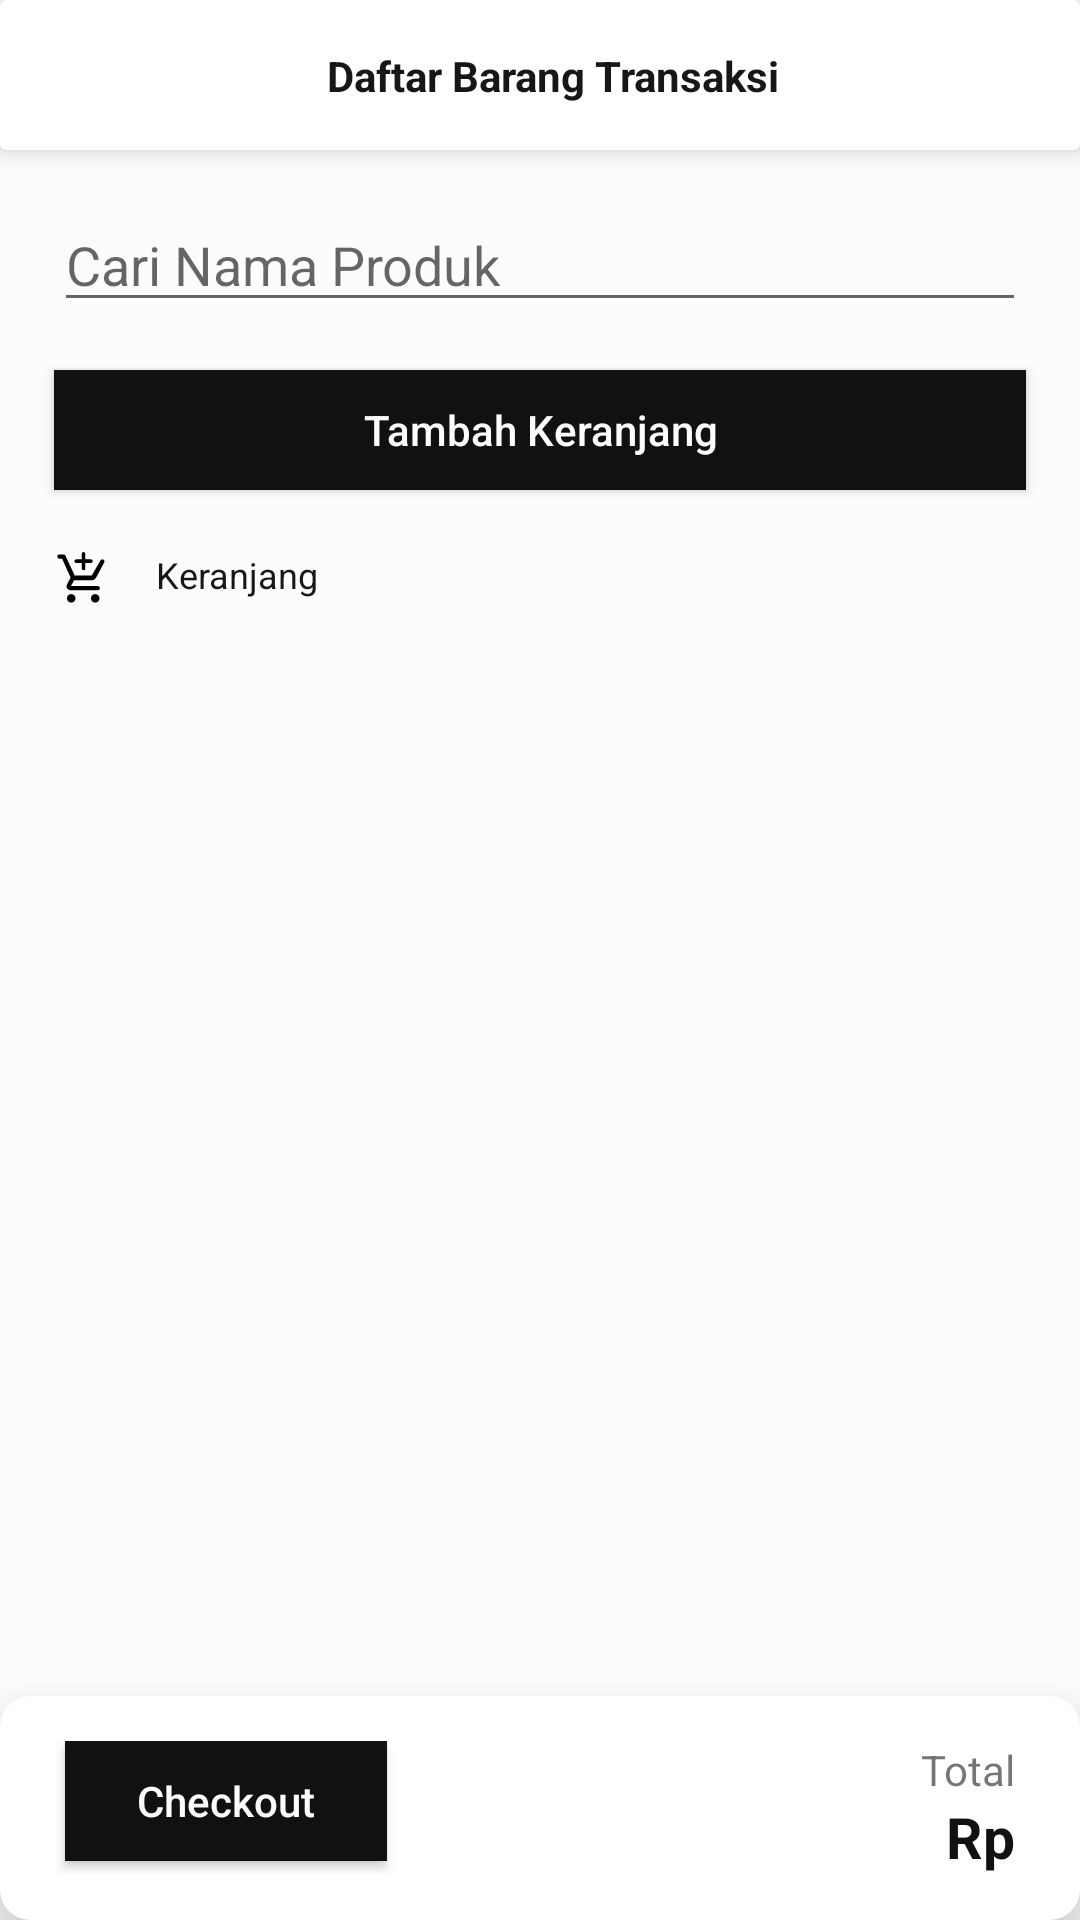

Screen size 1080x1920. Icon name, then its box in pixels as box=[x1, y1, x2, y2]:
cart: box=[57, 552, 105, 603]
